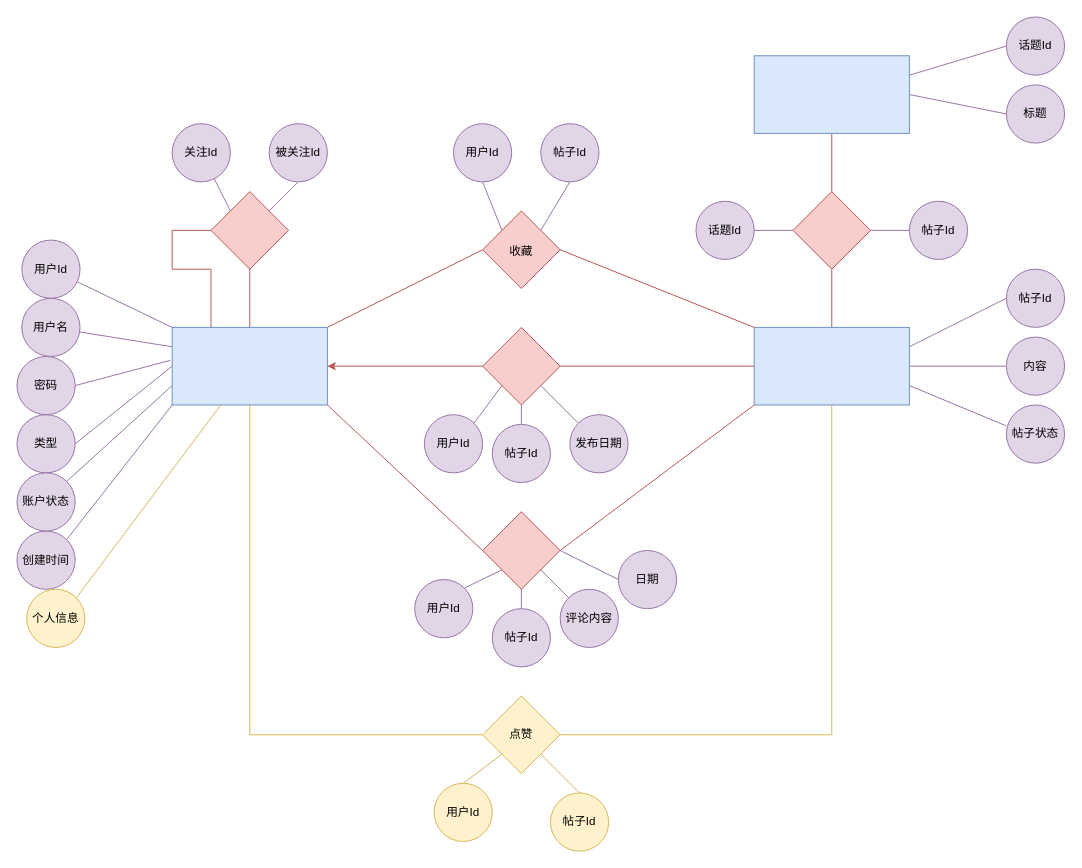
Image size: 1082x868. Some labels were removed from this diagram. Each missing label, with the centre of its shape:
关注: the point at 249,230
发布: the point at 521,365
帖子: the point at 831,365
拥有: the point at 831,230
用户: the point at 249,365
评论: the point at 521,550
话题: the point at 831,94
